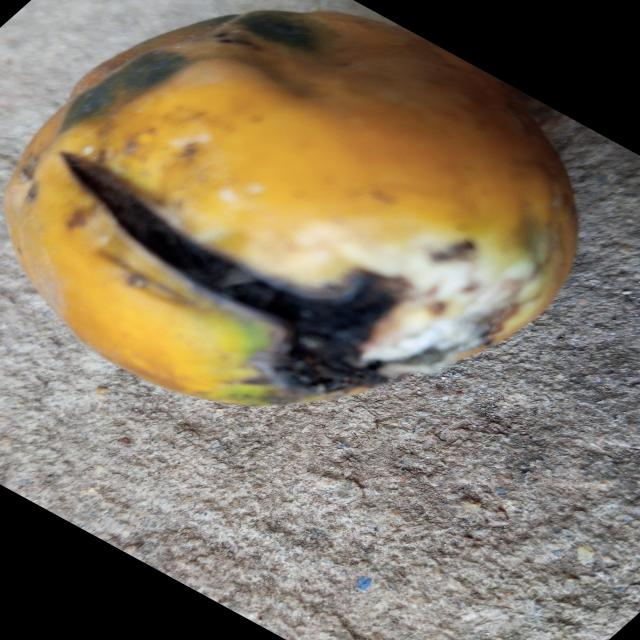damaged: (3, 9, 579, 408)
